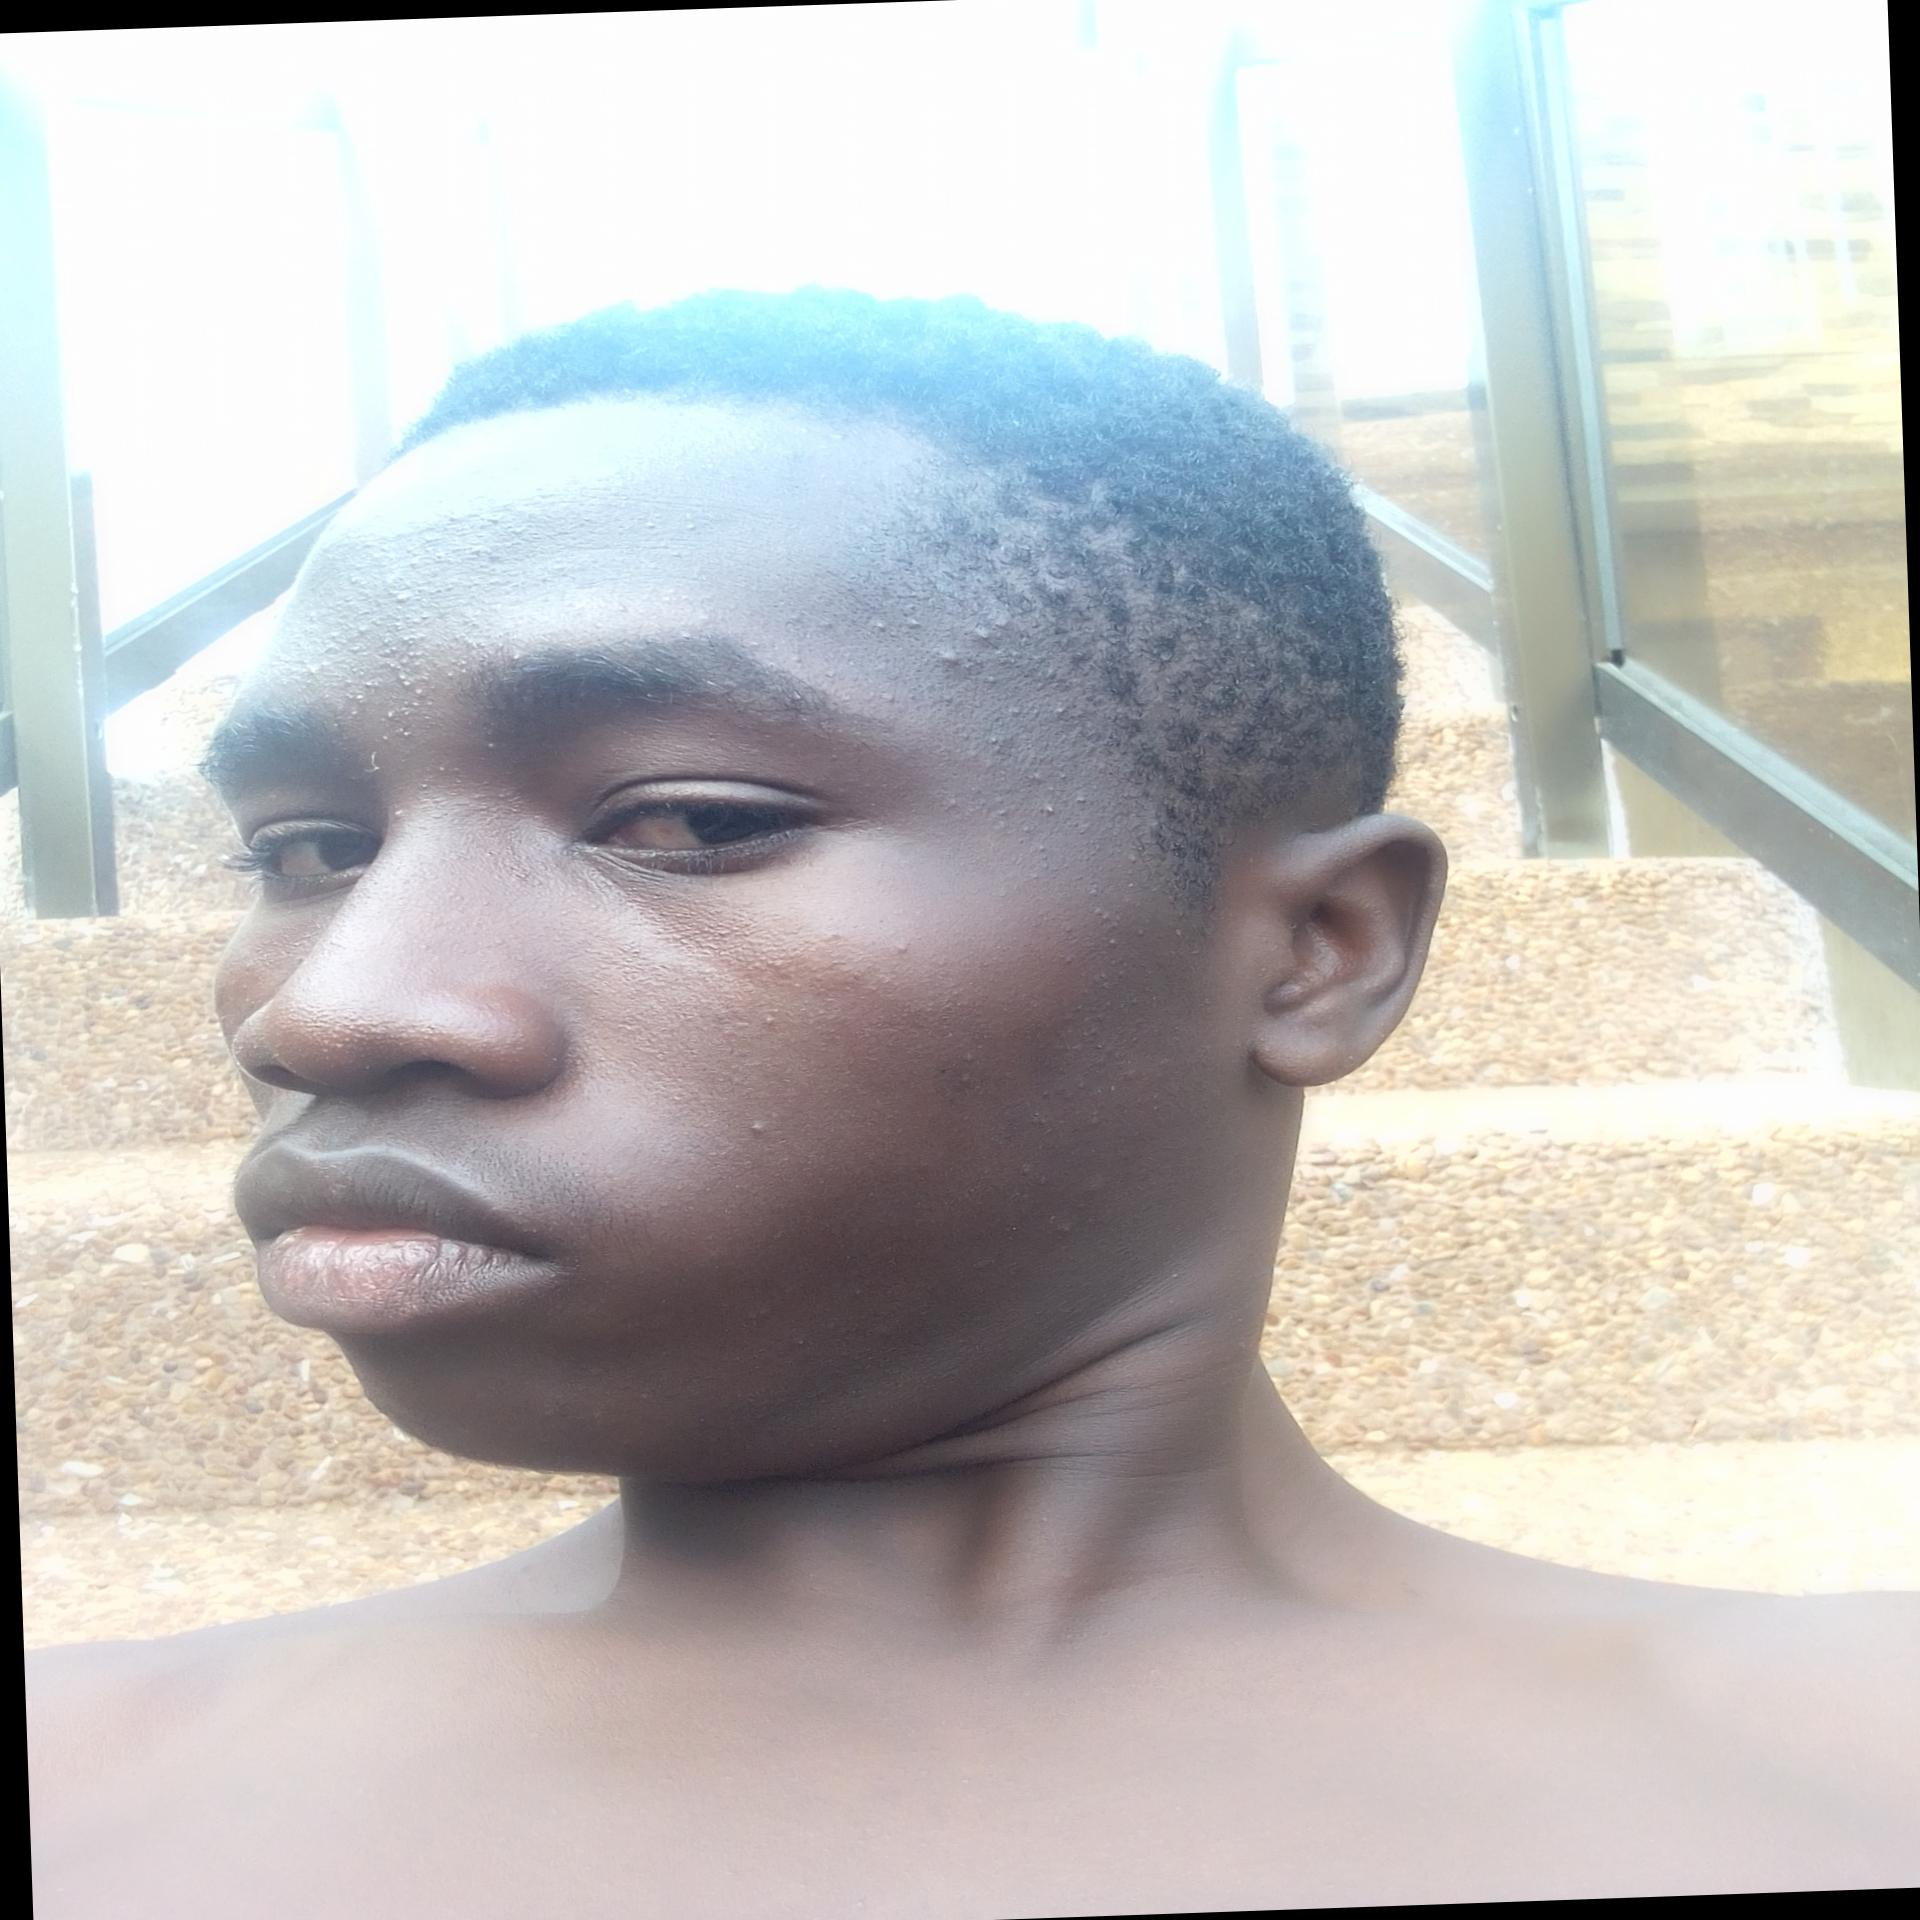Acne: (320, 582, 468, 738), (962, 698, 1085, 846), (884, 594, 1036, 695), (334, 508, 517, 580), (1074, 870, 1131, 985), (738, 1113, 774, 1136), (891, 935, 913, 955)
